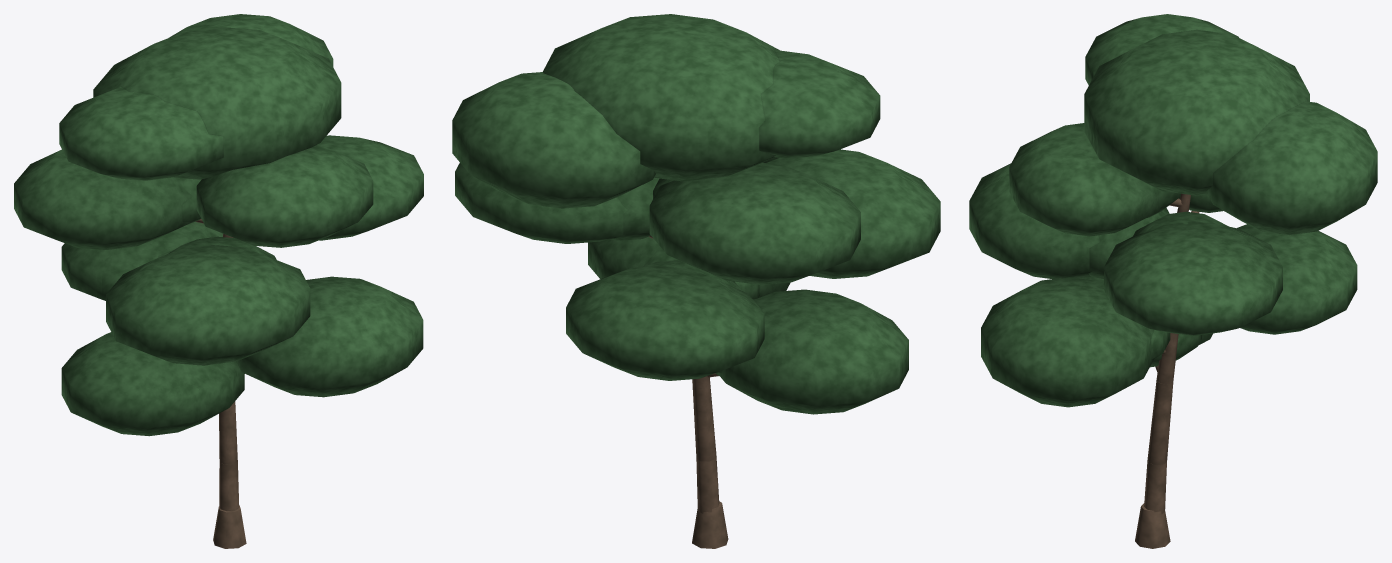
The model's file is IlsanPine02_LOD2.fbx.
3 renders of one model, left to right at view 1: azimuth 30°, elevation 25°; view 2: azimuth 150°, elevation 25°; view 3: azimuth 270°, elevation 25°, orthographic. The views are drawn at different scales.
Parts seen in each view (by area): view 1: IlsanPine02_LOD2; view 2: IlsanPine02_LOD2; view 3: IlsanPine02_LOD2.
Boxes of the visible parts, x1,y1,x2,y2 form: IlsanPine02_LOD2: (14, 14, 423, 548); IlsanPine02_LOD2: (452, 14, 940, 548); IlsanPine02_LOD2: (969, 14, 1377, 548).
Size of the model in its own units: 5.7 by 7.02 by 5.26.
Materials: 1 (1 with a texture image).
